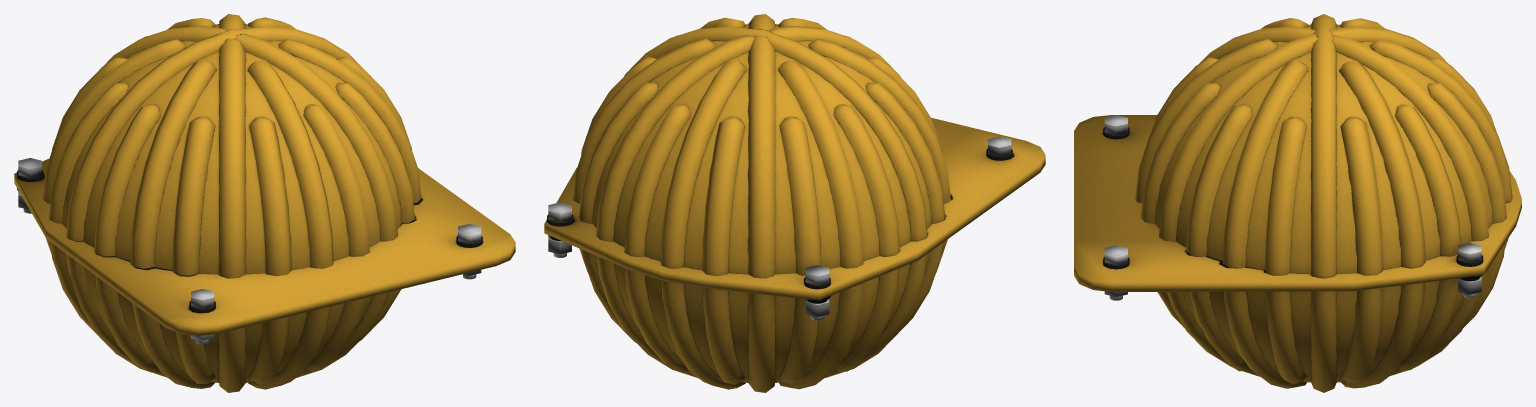
The model's file is hardhat_ribbed.dae.
The picture shows the model from 3 angles, left to right: view 1: azimuth 30°, elevation 25°; view 2: azimuth 150°, elevation 25°; view 3: azimuth 270°, elevation 25°; orthographic projection.
Visible parts, largest first — view 1: Ribbed; view 2: Ribbed; view 3: Ribbed.
Boxes of the visible parts, <box> form: Ribbed: <box>14,14,515,392</box>; Ribbed: <box>544,14,1045,392</box>; Ribbed: <box>1074,14,1521,392</box>.
Size of the model in its own units: 0.4948 by 0.5584 by 0.4747.
Materials: 1 (1 with a texture image).
